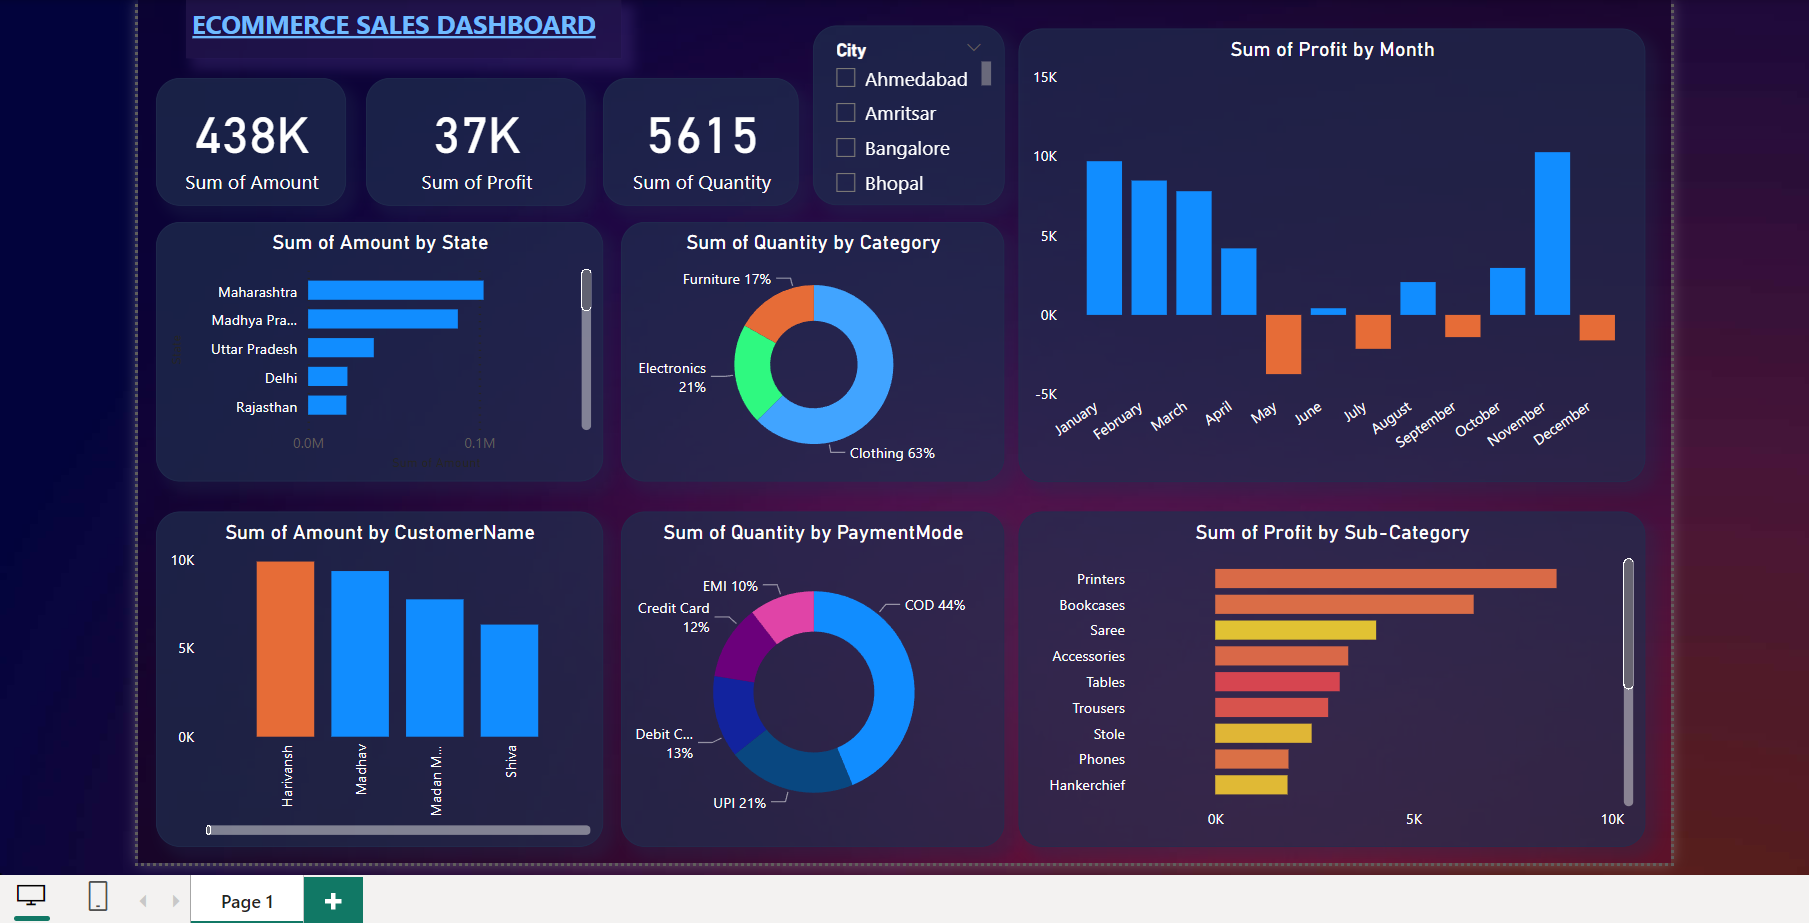

The dashboard page shown, as its layout file describes it:
{"tool":"powerbi","page":{"name":"Page 1","canvas":[1280,720],"ordinal":0},"visuals":[{"type":"textbox","box":[40.1,0,363.1,45.1],"z":0},{"type":"clusteredBarChart","fields":{"Category":["Details.Sub-Category"],"Y":["Sum(Details.Profit)"]},"box":[735,426.7,523.3,280],"z":1000},{"type":"clusteredBarChart","fields":{"Category":["Orders.State"],"Y":["Sum(Details.Amount)"]},"box":[15,185,373.3,216.7],"z":2000},{"type":"clusteredColumnChart","fields":{"Y":["Sum(Details.Profit)"],"Category":["Orders.Order Date.Variation.Date Hierarchy.Month"]},"box":[735,23.3,523.3,378.3],"z":3000},{"type":"donutChart","fields":{"Y":["Sum(Details.Quantity)"],"Category":["Details.Category"]},"box":[403.3,185,320,216.7],"z":4000},{"type":"clusteredColumnChart","fields":{"Category":["Orders.CustomerName"],"Y":["Sum(Details.Amount)"]},"box":[15,427,373,280],"z":5000},{"type":"donutChart","fields":{"Category":["Details.PaymentMode"],"Y":["Sum(Details.Quantity)"]},"box":[403,427,320,280],"z":6000},{"type":"card","fields":{"Values":["Sum(Details.Profit)"]},"box":[190,65,183.3,106.7],"z":7000},{"type":"card","fields":{"Values":["Sum(Details.Amount)"]},"box":[15,65,158.3,106.7],"z":8000},{"type":"card","fields":{"Values":["Sum(Details.Quantity)"]},"box":[388.3,65,163.3,106.7],"z":9000},{"type":"slicer","fields":{"Values":["Orders.City"]},"box":[563.3,21.7,160,150],"z":10000}]}

Visuals, with their boxes on the page's 1280x720 design canvas (x1, y1, x2, y2). These are canvas units, not pixel positions in the 1809x923 screenshot, which may show the page scaled, cropped or inside an application window:
textbox: Rect(40, 0, 403, 45)
clusteredBarChart - Details.Sub-Category x Sum(Details.Profit): Rect(735, 427, 1258, 707)
clusteredBarChart - Orders.State x Sum(Details.Amount): Rect(15, 185, 388, 402)
clusteredColumnChart - Sum(Details.Profit) x Orders.Order Date.Variation.Date Hierarchy.Month: Rect(735, 23, 1258, 402)
donutChart - Sum(Details.Quantity) x Details.Category: Rect(403, 185, 723, 402)
clusteredColumnChart - Orders.CustomerName x Sum(Details.Amount): Rect(15, 427, 388, 707)
donutChart - Details.PaymentMode x Sum(Details.Quantity): Rect(403, 427, 723, 707)
card - Sum(Details.Profit): Rect(190, 65, 373, 172)
card - Sum(Details.Amount): Rect(15, 65, 173, 172)
card - Sum(Details.Quantity): Rect(388, 65, 552, 172)
slicer - Orders.City: Rect(563, 22, 723, 172)
